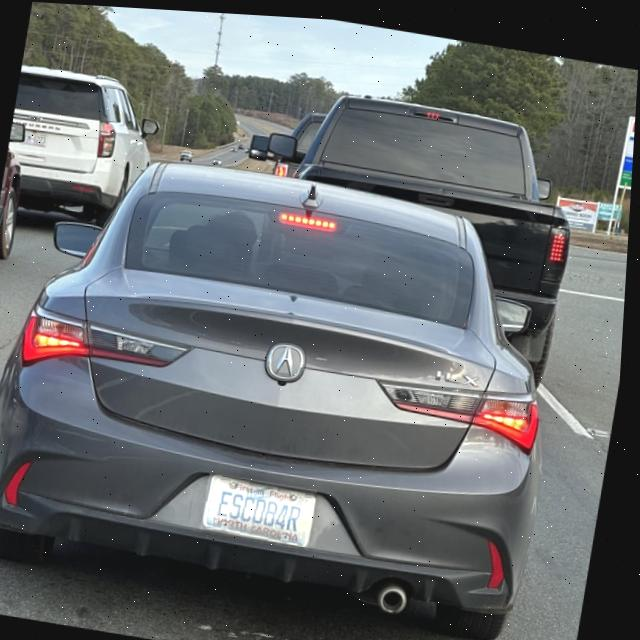LicensePlate: (207, 470, 322, 543)
